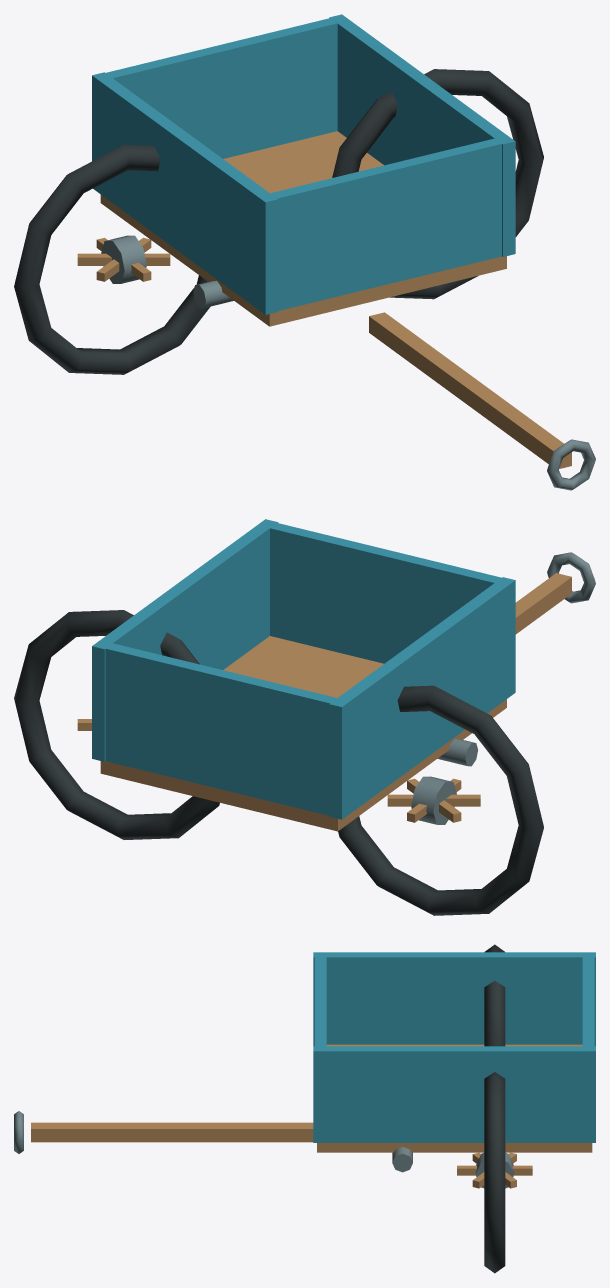
Rendered from wagon.source.glb.
3 renders of one model, top to bottom at view 1: azimuth 30°, elevation 25°; view 2: azimuth 150°, elevation 25°; view 3: azimuth 270°, elevation 25°, orthographic. The views are drawn at different scales.
Parts seen in each view (by area): view 1: wagon-bed-front-mesh, wagon-bed-left-mesh, wagon-bed-rear-mesh, wagon-bed-right-mesh, wagon-left-wheel-tire-mesh, wagon-bed-floor-mesh, wagon-right-wheel-tire-mesh, wagon-drawbar-mesh, wagon-hitch-eye-mesh, wagon-left-wheel-hub-mesh, wagon-left-wheel-spoke-2-mesh, wagon-rear-axle-mesh; view 2: wagon-bed-rear-mesh, wagon-bed-left-mesh, wagon-bed-front-mesh, wagon-bed-right-mesh, wagon-left-wheel-tire-mesh, wagon-right-wheel-tire-mesh, wagon-bed-floor-mesh, wagon-drawbar-mesh, wagon-left-wheel-hub-mesh, wagon-hitch-eye-mesh, wagon-left-wheel-spoke-1-mesh, wagon-rear-axle-mesh; view 3: wagon-bed-right-mesh, wagon-bed-left-mesh, wagon-drawbar-mesh, wagon-right-wheel-tire-mesh, wagon-bed-floor-mesh, wagon-bed-rear-mesh, wagon-bed-front-mesh, wagon-left-wheel-tire-mesh, wagon-rear-axle-mesh.
Part boxes in pixels (x1,y1,x2,y2): wagon-bed-front-mesh: [260, 137, 514, 310]; wagon-bed-left-mesh: [92, 72, 278, 314]; wagon-bed-rear-mesh: [93, 16, 342, 193]; wagon-bed-right-mesh: [329, 14, 515, 256]; wagon-left-wheel-tire-mesh: [14, 144, 210, 374]; wagon-bed-floor-mesh: [100, 131, 506, 326]; wagon-right-wheel-tire-mesh: [332, 69, 543, 299]; wagon-drawbar-mesh: [369, 312, 571, 468]; wagon-hitch-eye-mesh: [547, 439, 595, 490]; wagon-left-wheel-hub-mesh: [101, 235, 146, 283]; wagon-left-wheel-spoke-2-mesh: [77, 253, 170, 265]; wagon-rear-axle-mesh: [193, 280, 233, 308]; wagon-bed-rear-mesh: [93, 640, 350, 818]; wagon-bed-left-mesh: [329, 577, 515, 819]; wagon-bed-front-mesh: [270, 523, 513, 663]; wagon-bed-right-mesh: [92, 519, 278, 761]; wagon-left-wheel-tire-mesh: [338, 685, 543, 915]; wagon-right-wheel-tire-mesh: [14, 610, 219, 839]; wagon-bed-floor-mesh: [100, 636, 506, 831]; wagon-drawbar-mesh: [515, 573, 571, 634]; wagon-left-wheel-hub-mesh: [411, 776, 456, 824]; wagon-hitch-eye-mesh: [547, 552, 595, 603]; wagon-left-wheel-spoke-1-mesh: [387, 794, 480, 806]; wagon-rear-axle-mesh: [437, 738, 477, 766]; wagon-bed-right-mesh: [313, 1046, 595, 1142]; wagon-bed-left-mesh: [313, 952, 595, 1046]; wagon-drawbar-mesh: [31, 1122, 313, 1142]; wagon-right-wheel-tire-mesh: [484, 1072, 505, 1273]; wagon-bed-floor-mesh: [317, 1044, 592, 1152]; wagon-bed-rear-mesh: [582, 952, 594, 1142]; wagon-bed-front-mesh: [315, 952, 326, 1142]; wagon-left-wheel-tire-mesh: [484, 944, 505, 1046]; wagon-rear-axle-mesh: [392, 1146, 412, 1172].
Bounding box in the file's own units: 3.35 × 1.49 × 3.91.
